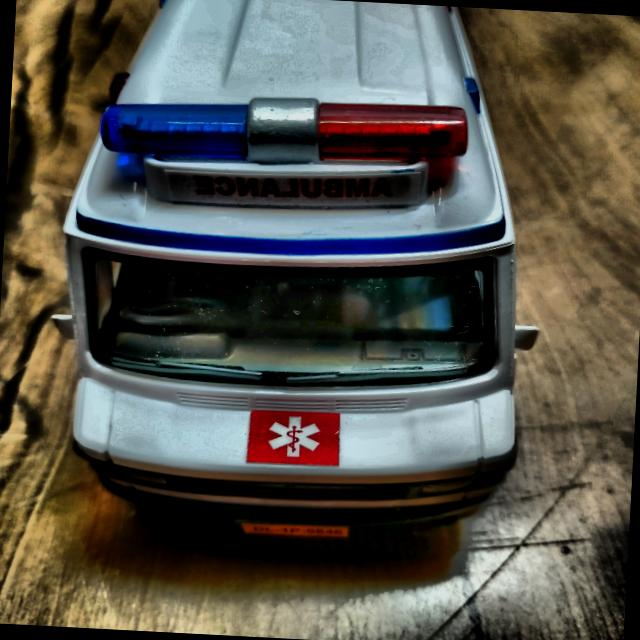Ambulance: (48, 0, 553, 552)
